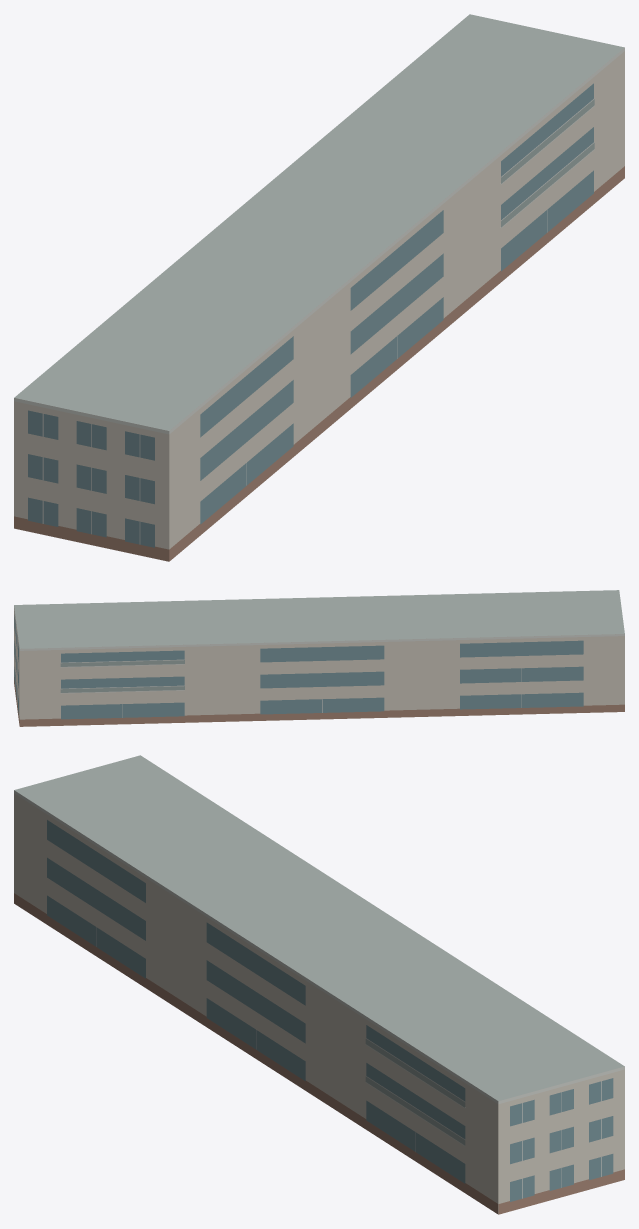
Rendered from survey-upis-32831327.glb.
The picture shows the model from 3 angles, top to bottom: view 1: azimuth 30°, elevation 25°; view 2: azimuth 150°, elevation 25°; view 3: azimuth 270°, elevation 25°; orthographic projection. The views are drawn at different scales.
Visible parts, largest first — view 1: survey-upis-32831327.tmp; view 2: survey-upis-32831327.tmp; view 3: survey-upis-32831327.tmp.
Part boxes in pixels (x1,y1,x2,y2): survey-upis-32831327.tmp: (14,14,624,561); survey-upis-32831327.tmp: (14,590,624,726); survey-upis-32831327.tmp: (14,755,624,1214).
Size of the model in its own units: 59.87 by 9.15 by 44.67.
